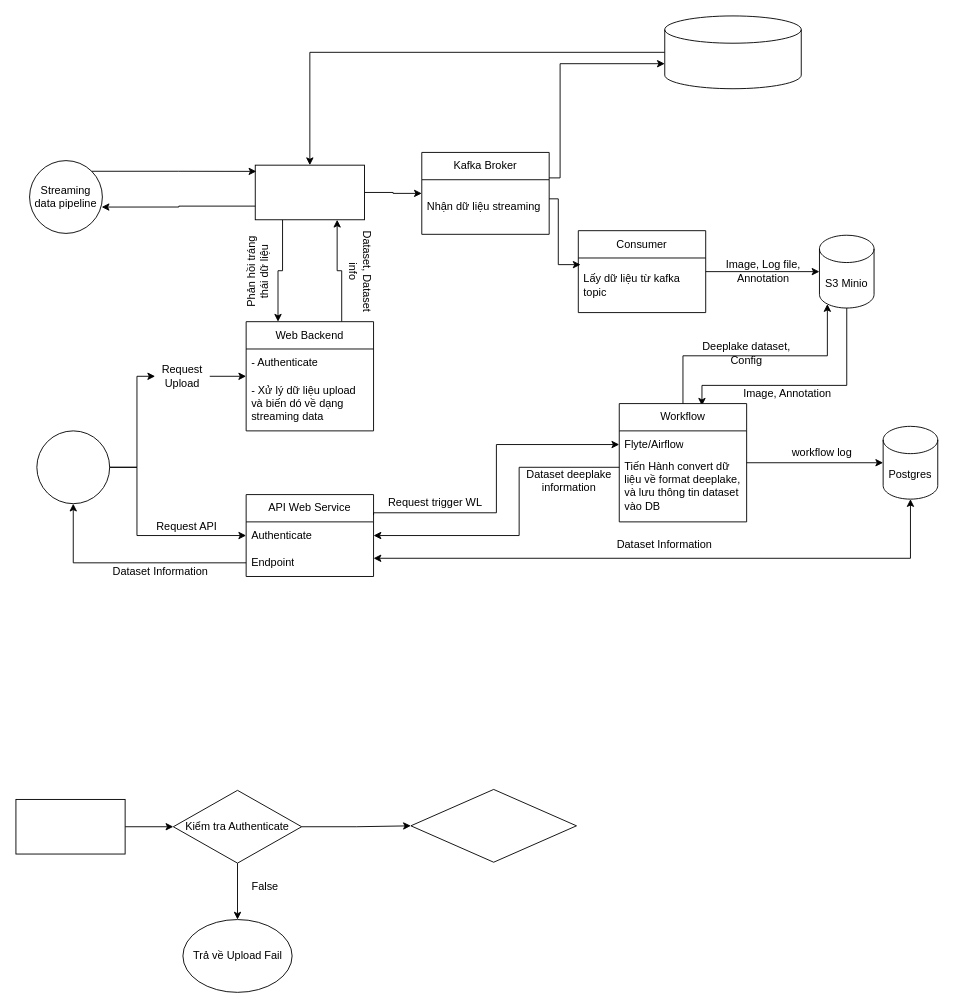
This 954x1008 diagram has some shape labels left out. Here are the shapes that lost their labels. From the top down, the box of each, then its label:
(664, 15, 801, 89): Log Message ( Mongo)
(254, 164, 364, 220): Producer Check thông tin dataset
(36, 430, 110, 504): User
(15, 799, 125, 854): Dữ liệu đầu vào
(410, 789, 576, 862): Kiểm tra thông tin dữ liệu
